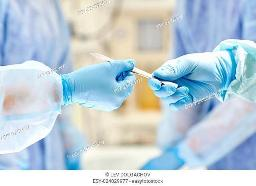scalpel: (90, 51, 178, 88)
